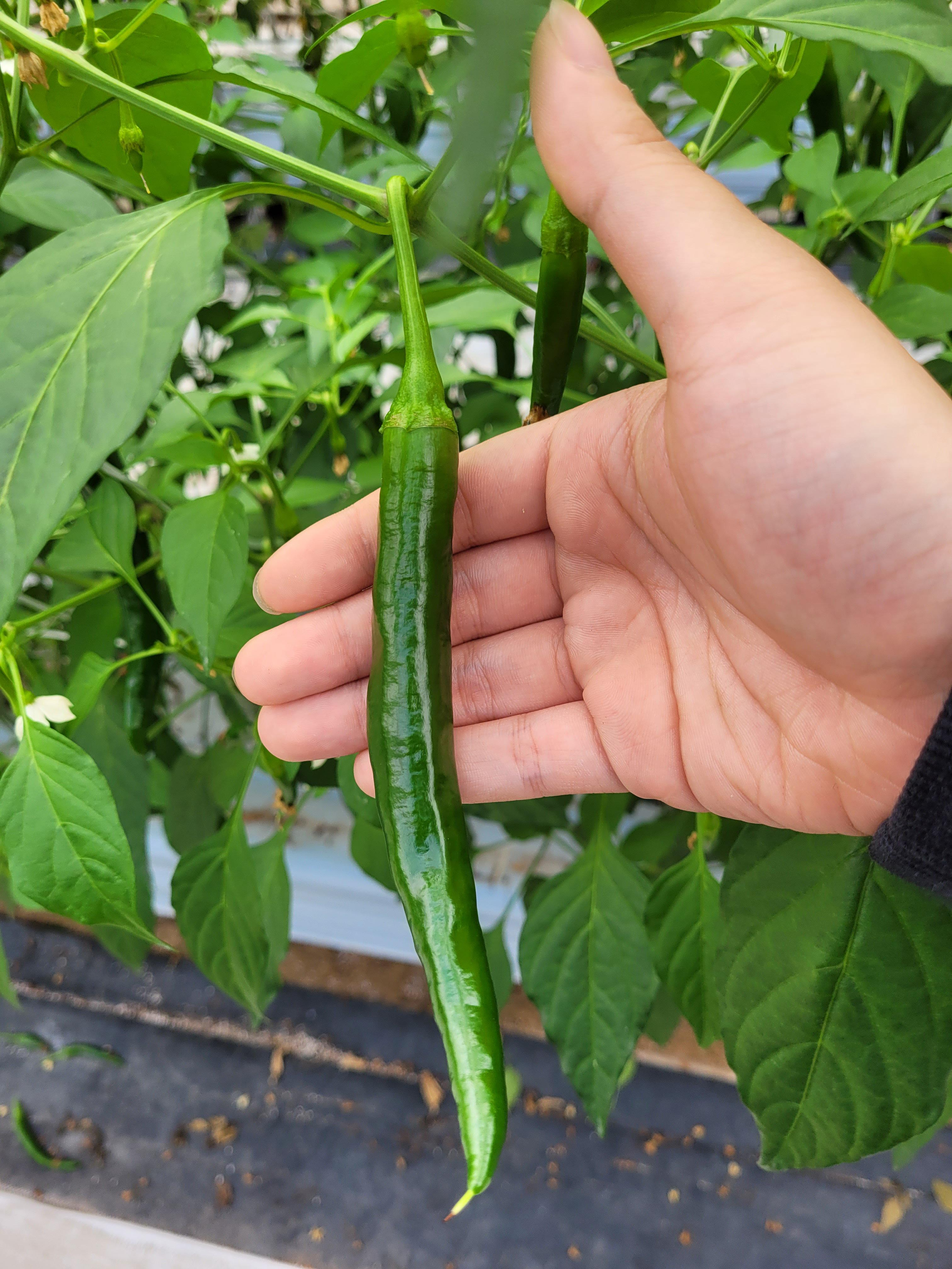Buah Cabai Sehat: (359, 389, 506, 1220)
Daun Cabai Sehat: (0, 187, 236, 652), (715, 835, 952, 1189), (516, 832, 664, 1143), (0, 703, 150, 990)
